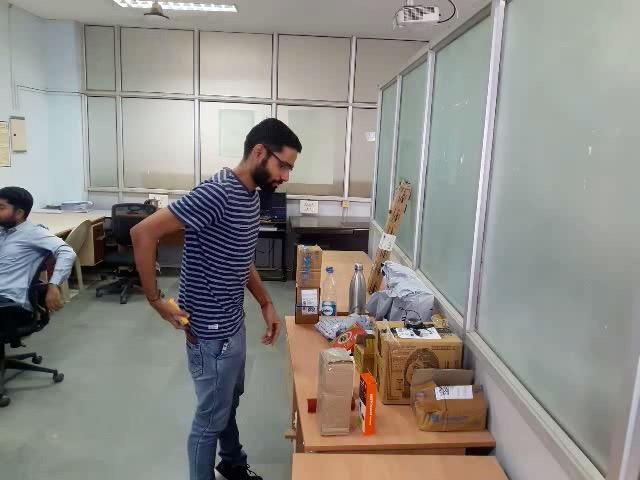Normal: (0, 0, 497, 480)
shoplifting: (123, 276, 239, 386)
